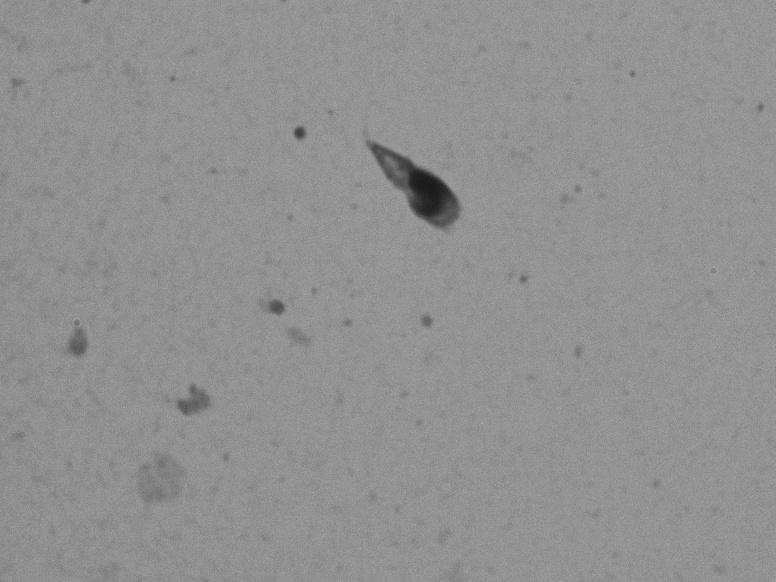Abnormal: (333, 98, 500, 238)
